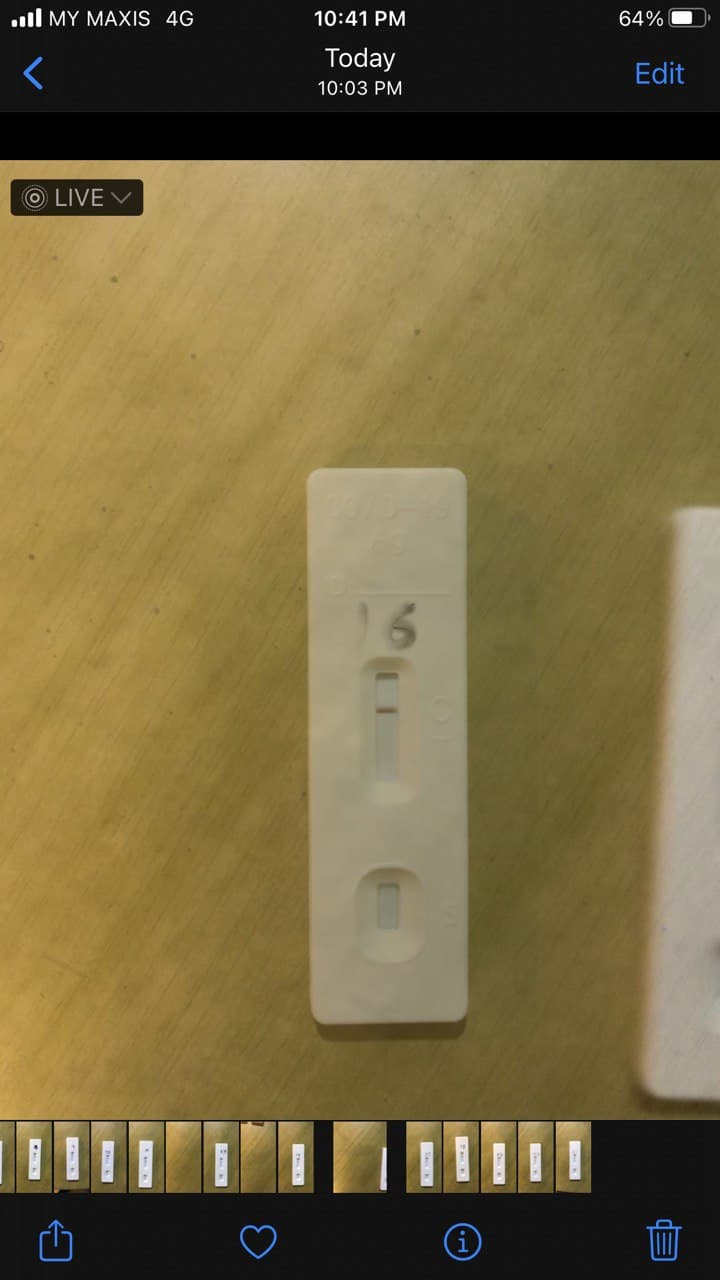rapid_test: (302, 466, 470, 1033)
